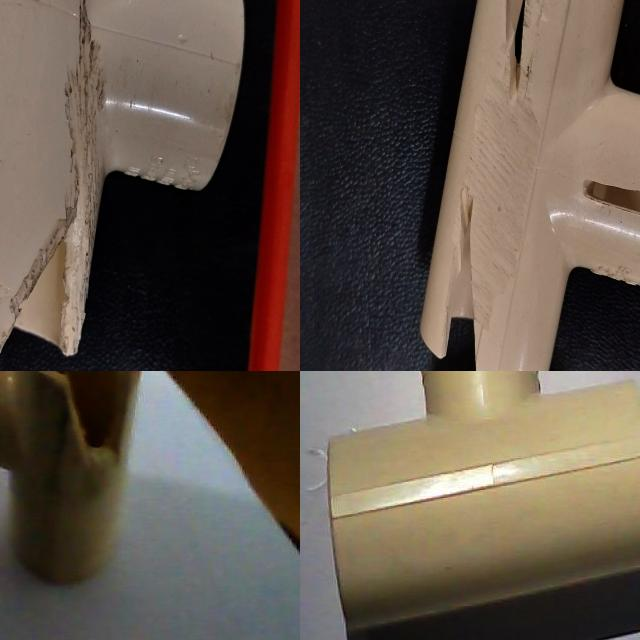Defective: (0, 232, 96, 338), (0, 214, 87, 313), (56, 371, 133, 469), (411, 0, 455, 130), (300, 188, 337, 229)
T Joint: (300, 0, 565, 330), (327, 371, 640, 631), (0, 6, 108, 371), (603, 146, 635, 315)
